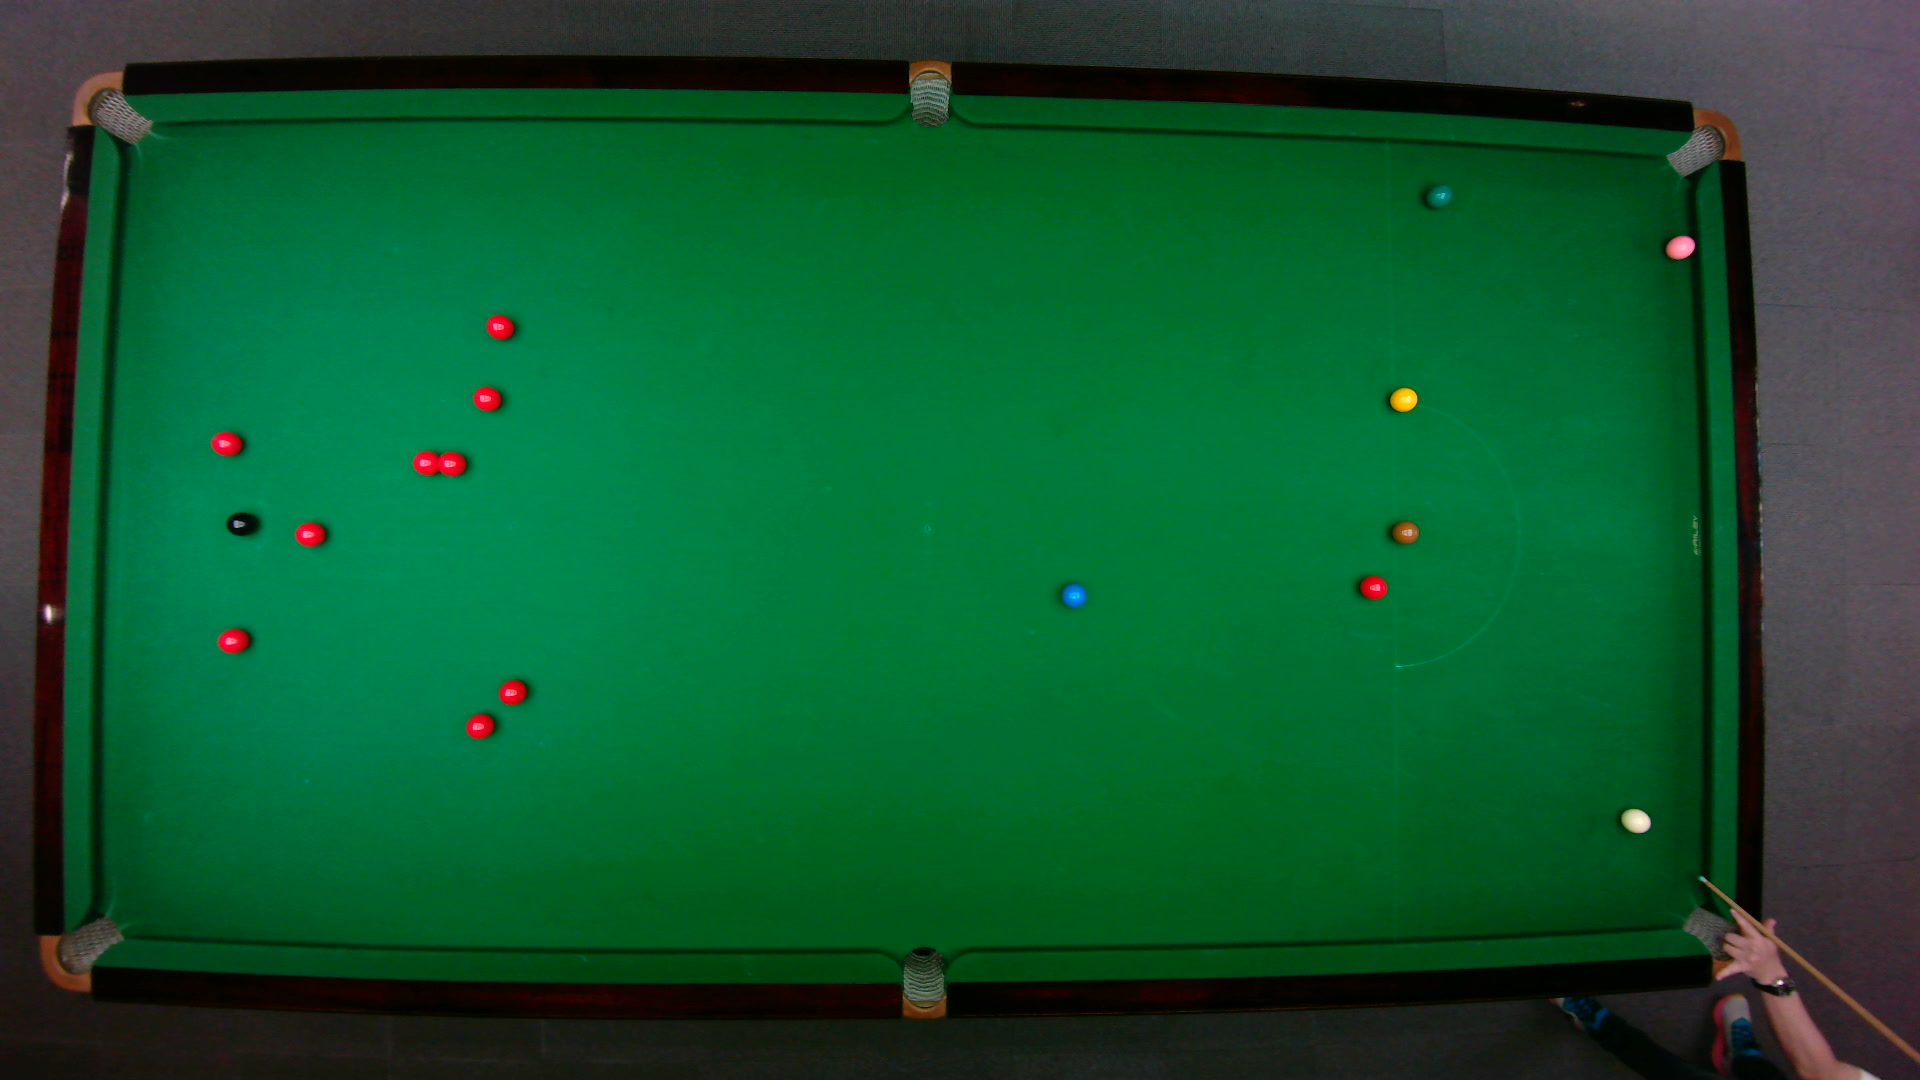bag: (37, 914, 125, 992), (69, 69, 152, 145), (1680, 905, 1764, 980), (1663, 107, 1741, 177), (901, 944, 944, 1021), (909, 57, 949, 128)
black: (223, 509, 257, 535)
blue: (1059, 582, 1087, 608)
brown: (1389, 520, 1419, 545)
cue: (1695, 873, 1920, 1069)
green: (1422, 182, 1453, 208)
pink: (1663, 232, 1697, 260)
red: (208, 429, 244, 456), (215, 626, 251, 653), (496, 676, 527, 705), (293, 520, 326, 547), (463, 711, 496, 738), (469, 384, 502, 411), (484, 313, 516, 340), (435, 448, 467, 476), (410, 448, 440, 476), (1357, 574, 1389, 600)
white: (1618, 806, 1652, 833)
yellow: (1387, 385, 1418, 411)
zone: (1390, 400, 1520, 667)
